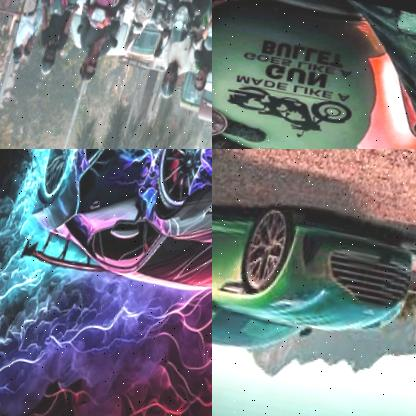bike: (212, 0, 416, 149), (161, 0, 212, 44), (81, 0, 150, 24)
car: (212, 173, 416, 374), (18, 149, 212, 325), (110, 0, 170, 63)
